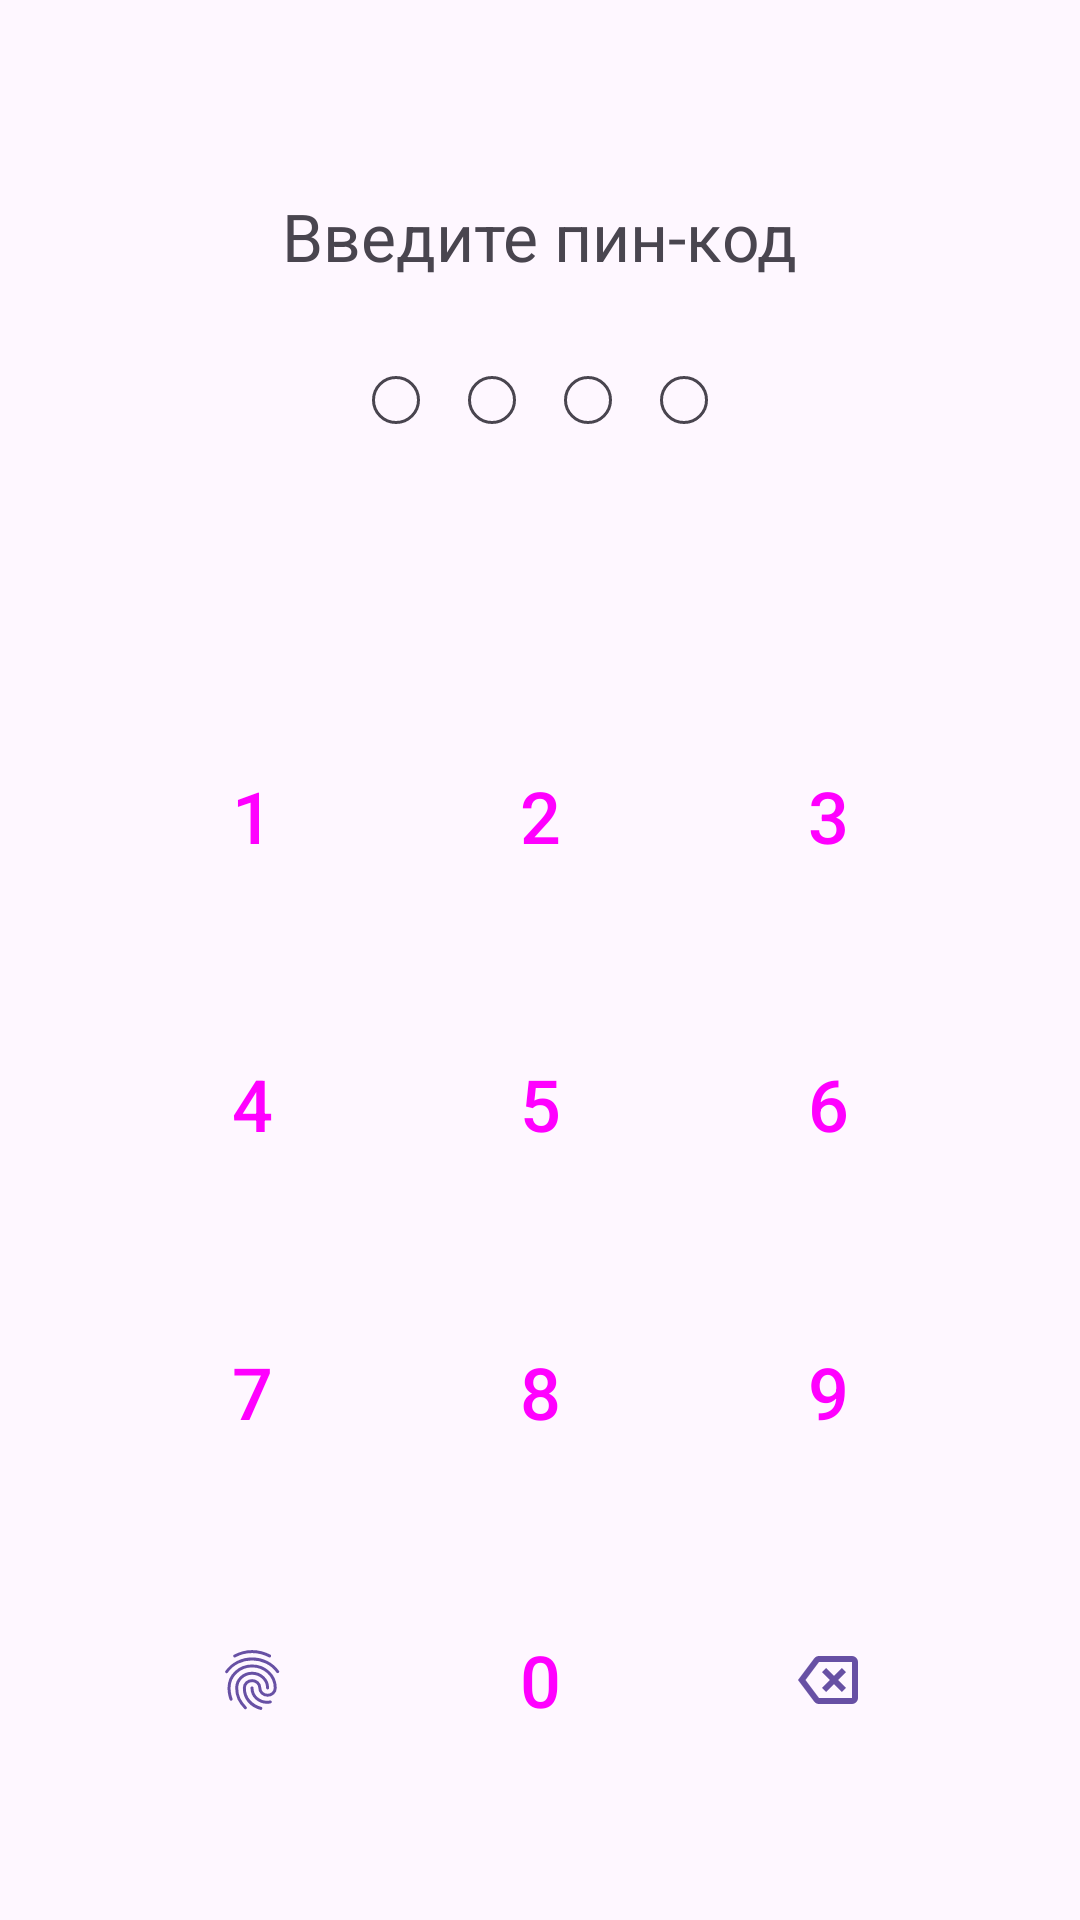

Icon bounding boxes for this 1080px×1920px phone screenshot, format (x1, y1, x2, y2):
backspace: (798, 1656, 858, 1704)
fingerprint: (225, 1650, 280, 1710)
pin indicator empty: (372, 376, 420, 424), (468, 376, 516, 424), (564, 376, 612, 424), (660, 376, 708, 424)
